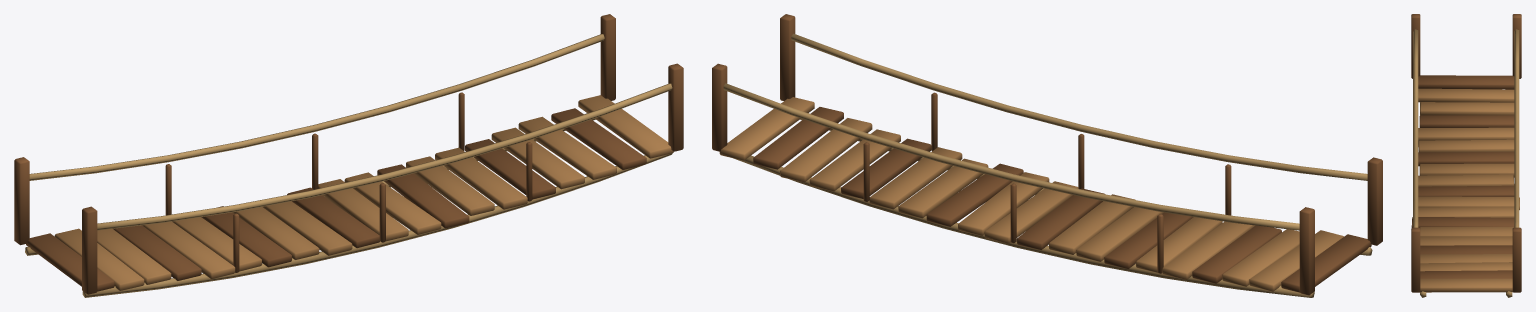
File: desert_bridge.glb
3 views of the same model, side by side, from view 1: azimuth 30°, elevation 25°; view 2: azimuth 150°, elevation 25°; view 3: azimuth 270°, elevation 25° (orthographic). The views are drawn at different scales.
Parts seen in each view (by area): view 1: D_Bridge__D_woodl, D_Bridge__D_wood, D_Bridge__D_rope; view 2: D_Bridge__D_woodl, D_Bridge__D_wood, D_Bridge__D_rope; view 3: D_Bridge__D_woodl, D_Bridge__D_wood, D_Bridge__D_rope.
Boxes of the visible parts, <box> form: D_Bridge__D_woodl: <box>54,95,673,290</box>; D_Bridge__D_wood: <box>14,14,683,294</box>; D_Bridge__D_rope: <box>25,34,672,297</box>; D_Bridge__D_woodl: <box>719,97,1343,291</box>; D_Bridge__D_wood: <box>712,14,1382,295</box>; D_Bridge__D_rope: <box>723,33,1372,297</box>; D_Bridge__D_woodl: <box>1418,88,1519,292</box>; D_Bridge__D_wood: <box>1411,14,1521,292</box>; D_Bridge__D_rope: <box>1413,29,1519,297</box>.
Size of the model in its own units: 10.18 by 1.85 by 2.18.
